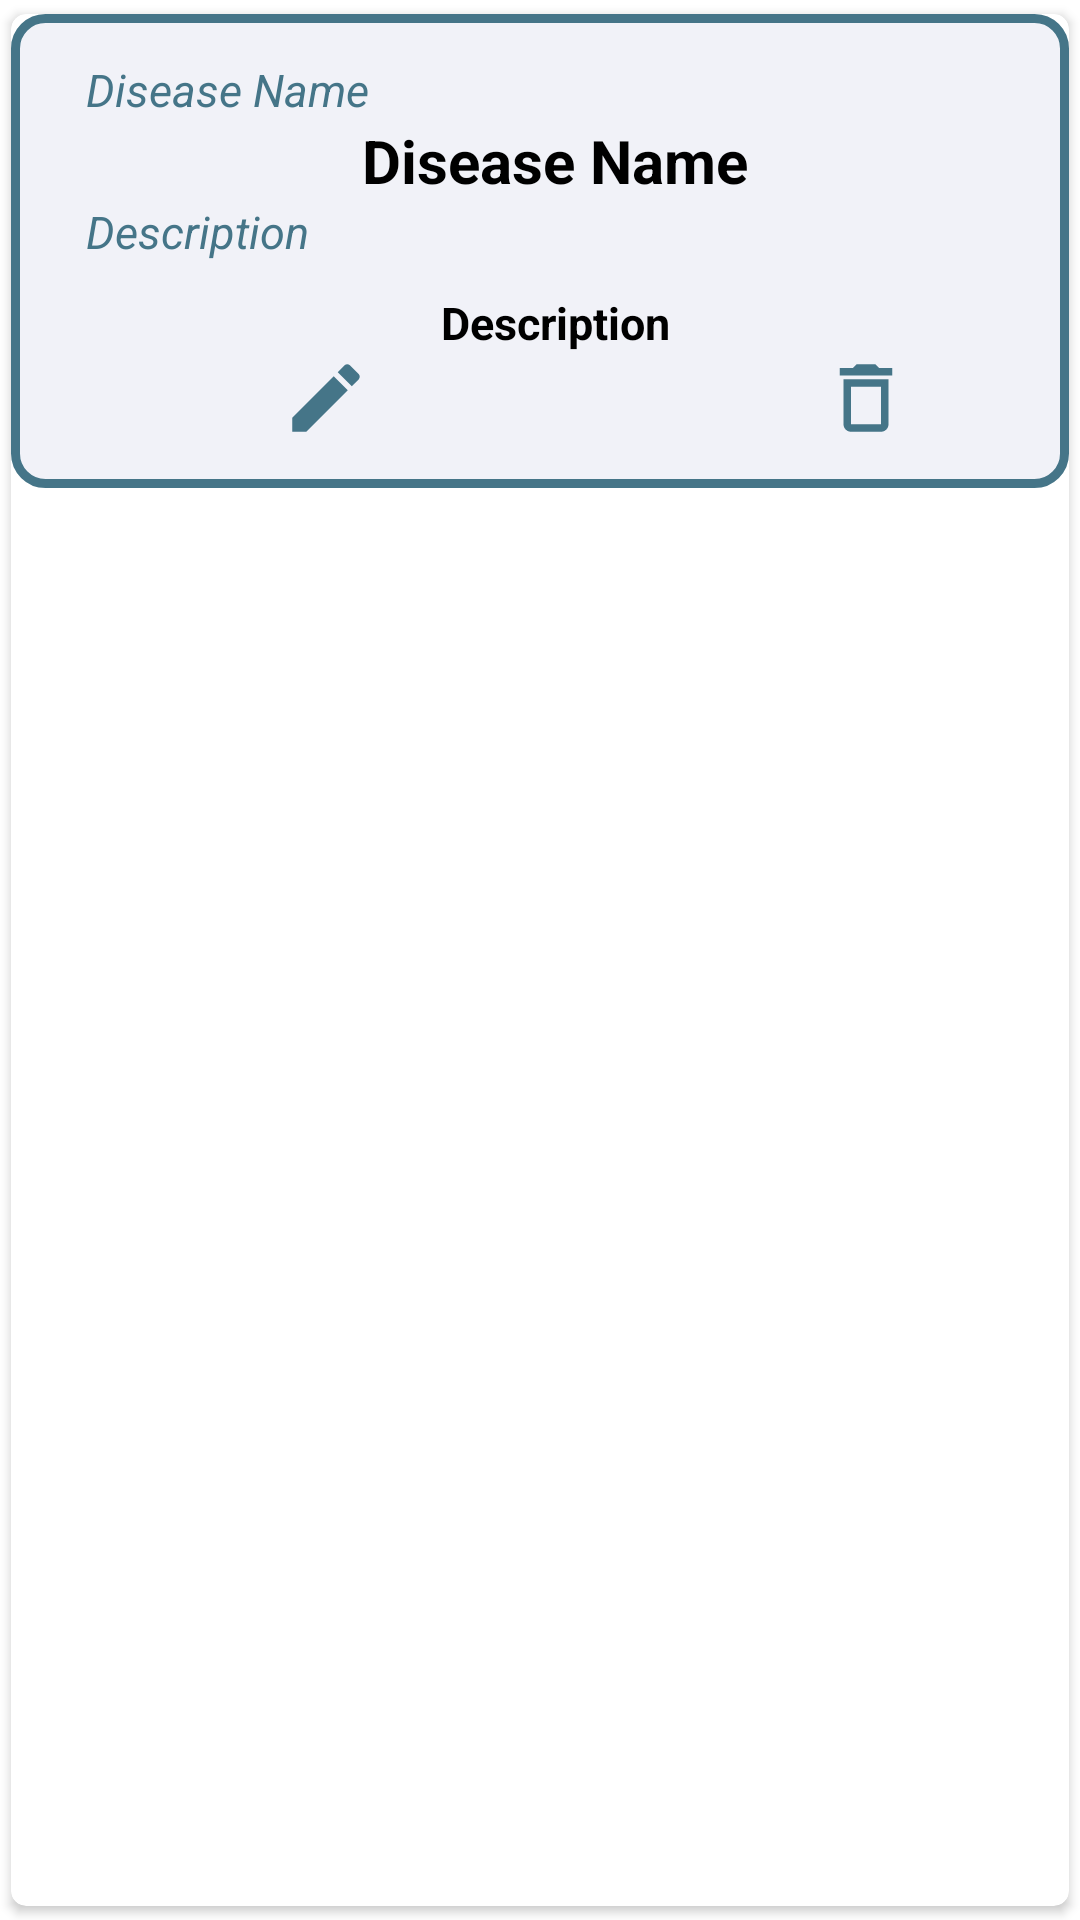

Screen size 1080x1920. Icon name, then its center in pixels as point (x, y):
edit: point (326, 398)
